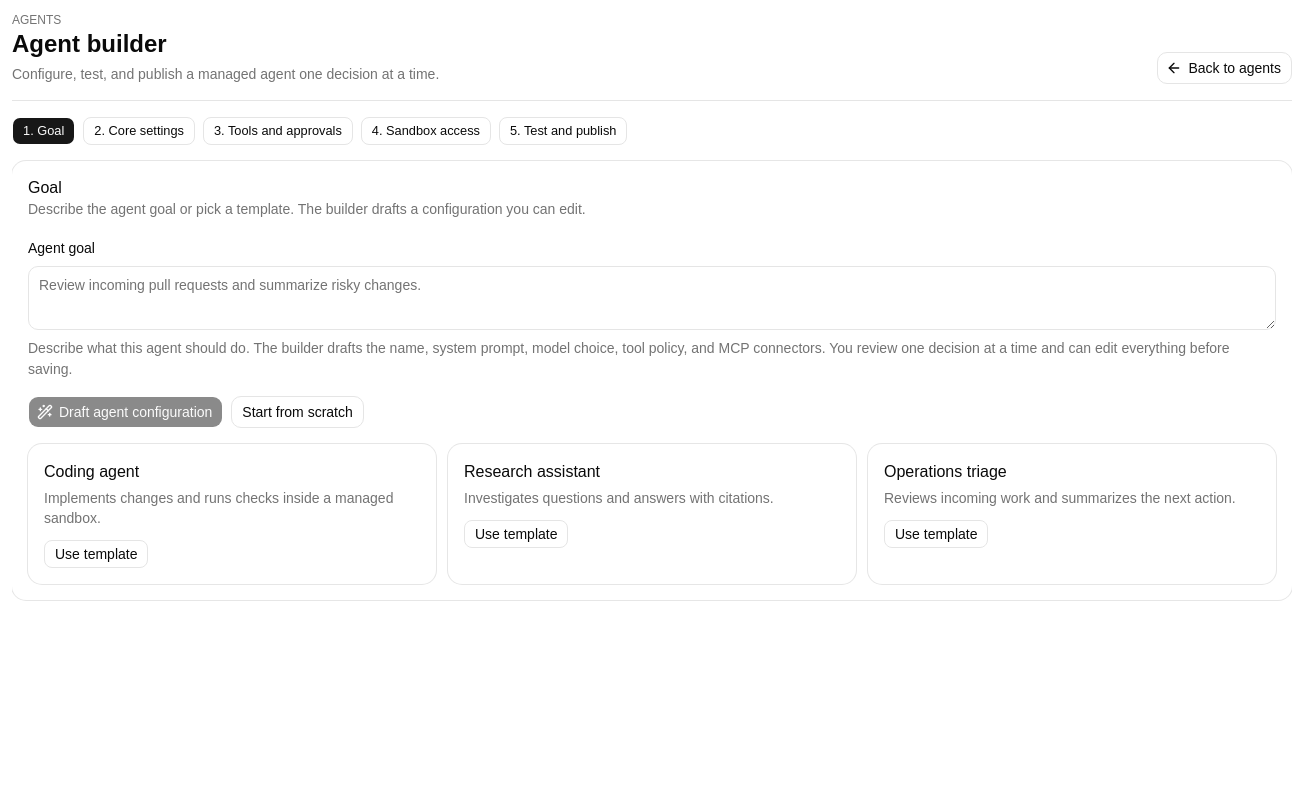
Test: [spec: agents/builder] AgentBuilderPage › navigate via Use template on start step goes to core step
The width and height of the screenshot is (1292, 812).
Step 1. Click the button "Use template" below "Coding agent" → (96, 554), box [44,540,148,568]
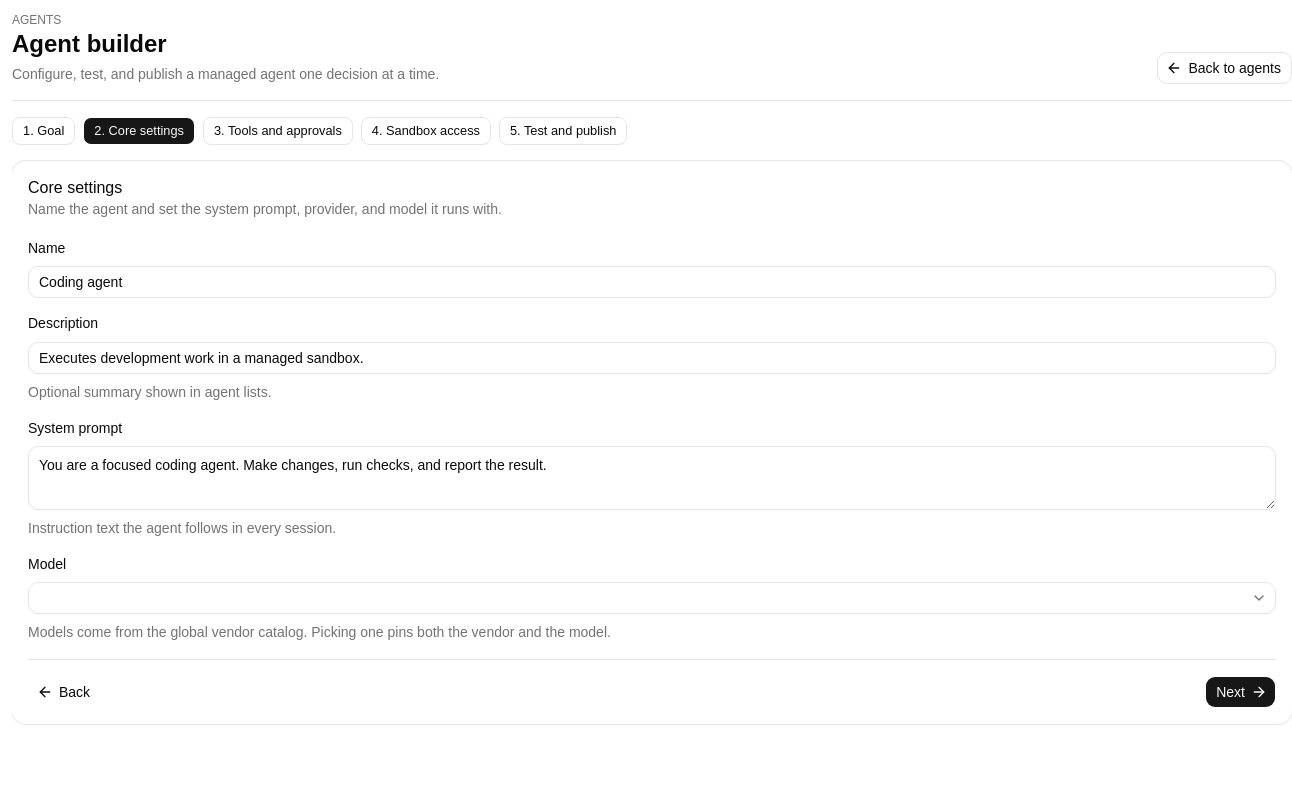
Expected: the field labelled "Name" is shown, [28,266,1276,298]
